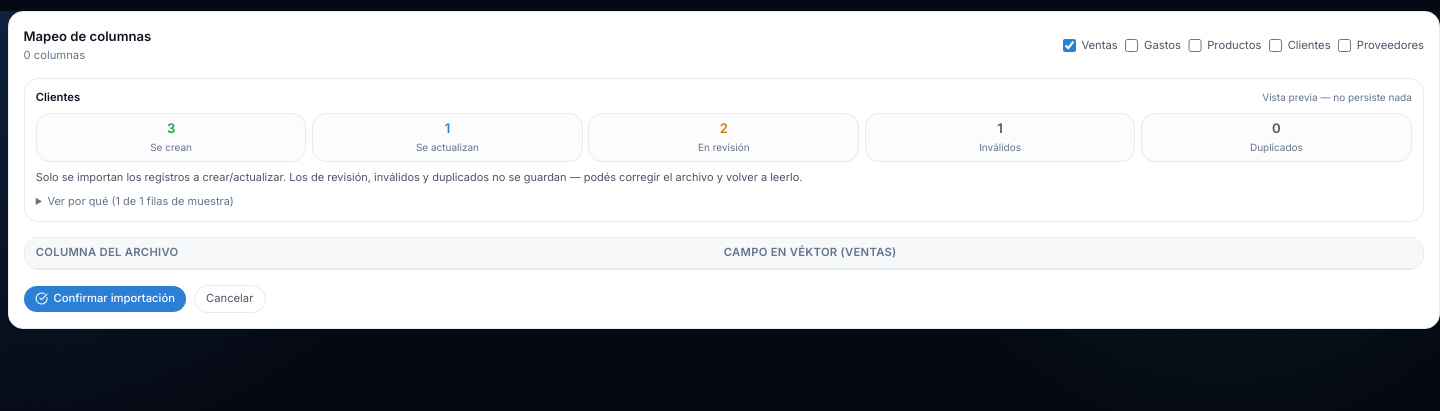
Scenario: ColumnMapperPanel — A3 clarificación inline › F7e: preview de maestros — conteos por bucket y muestra needs_review/invalid
Expected: the text "Clientes" is shown, [36, 90, 80, 105]
Expected: the text "En revisión" is shown, [698, 141, 750, 153]
Click the heading "Ver por qué (1 de 1 filas de muestra)".
click(141, 201)  # box [47, 194, 234, 208]
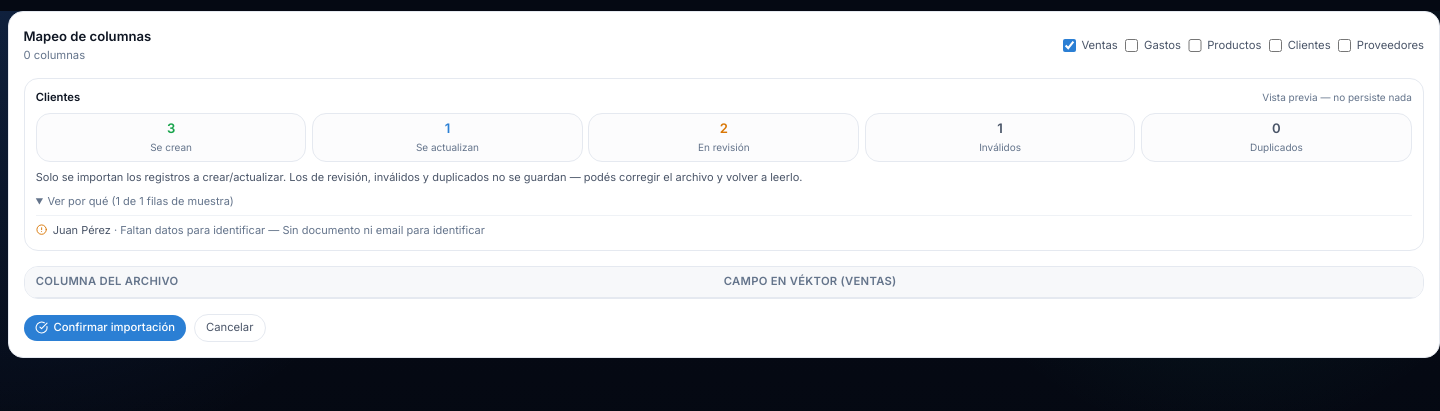
Expected: the text "Juan Pérez" is shown, [53, 223, 111, 237]
Expected: the text "Sin documento ni email para identificar" is shown, [265, 223, 485, 237]
